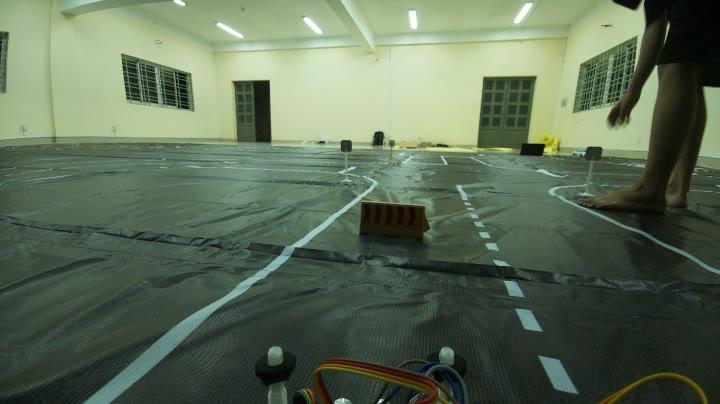roadblock: (352, 193, 444, 249)
